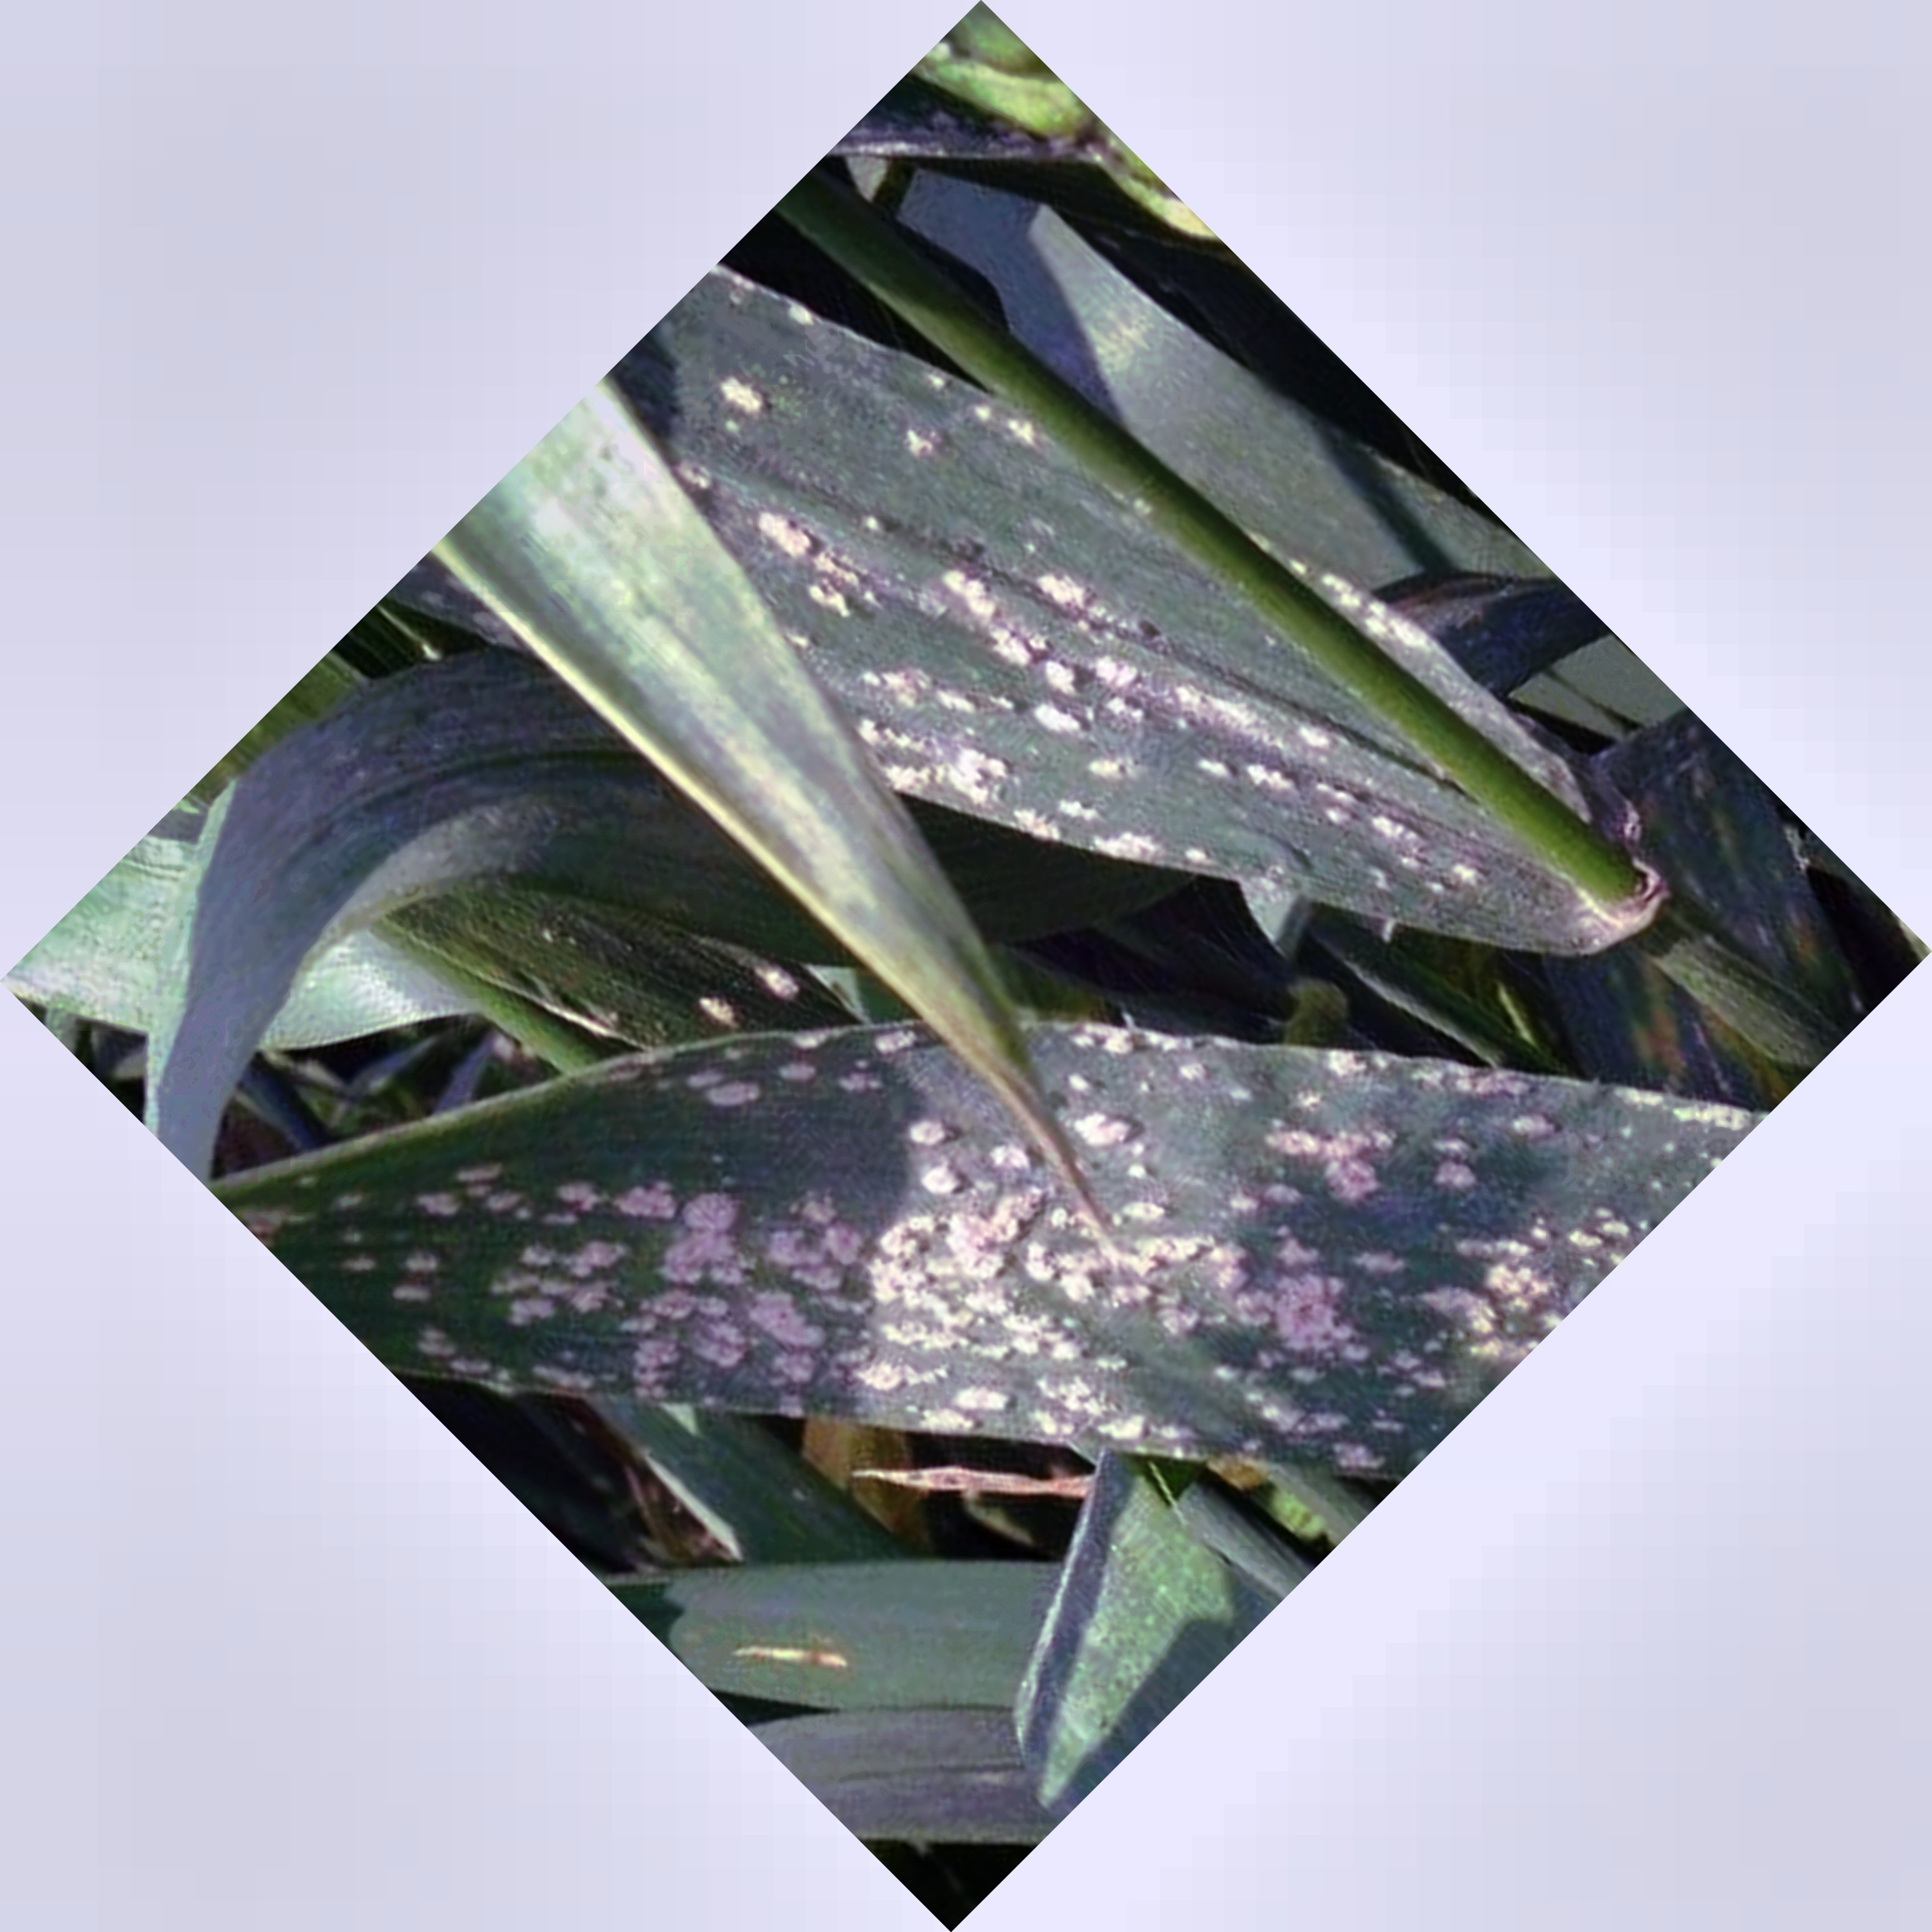Powdery Mildew: (467, 1040, 1548, 1426)
